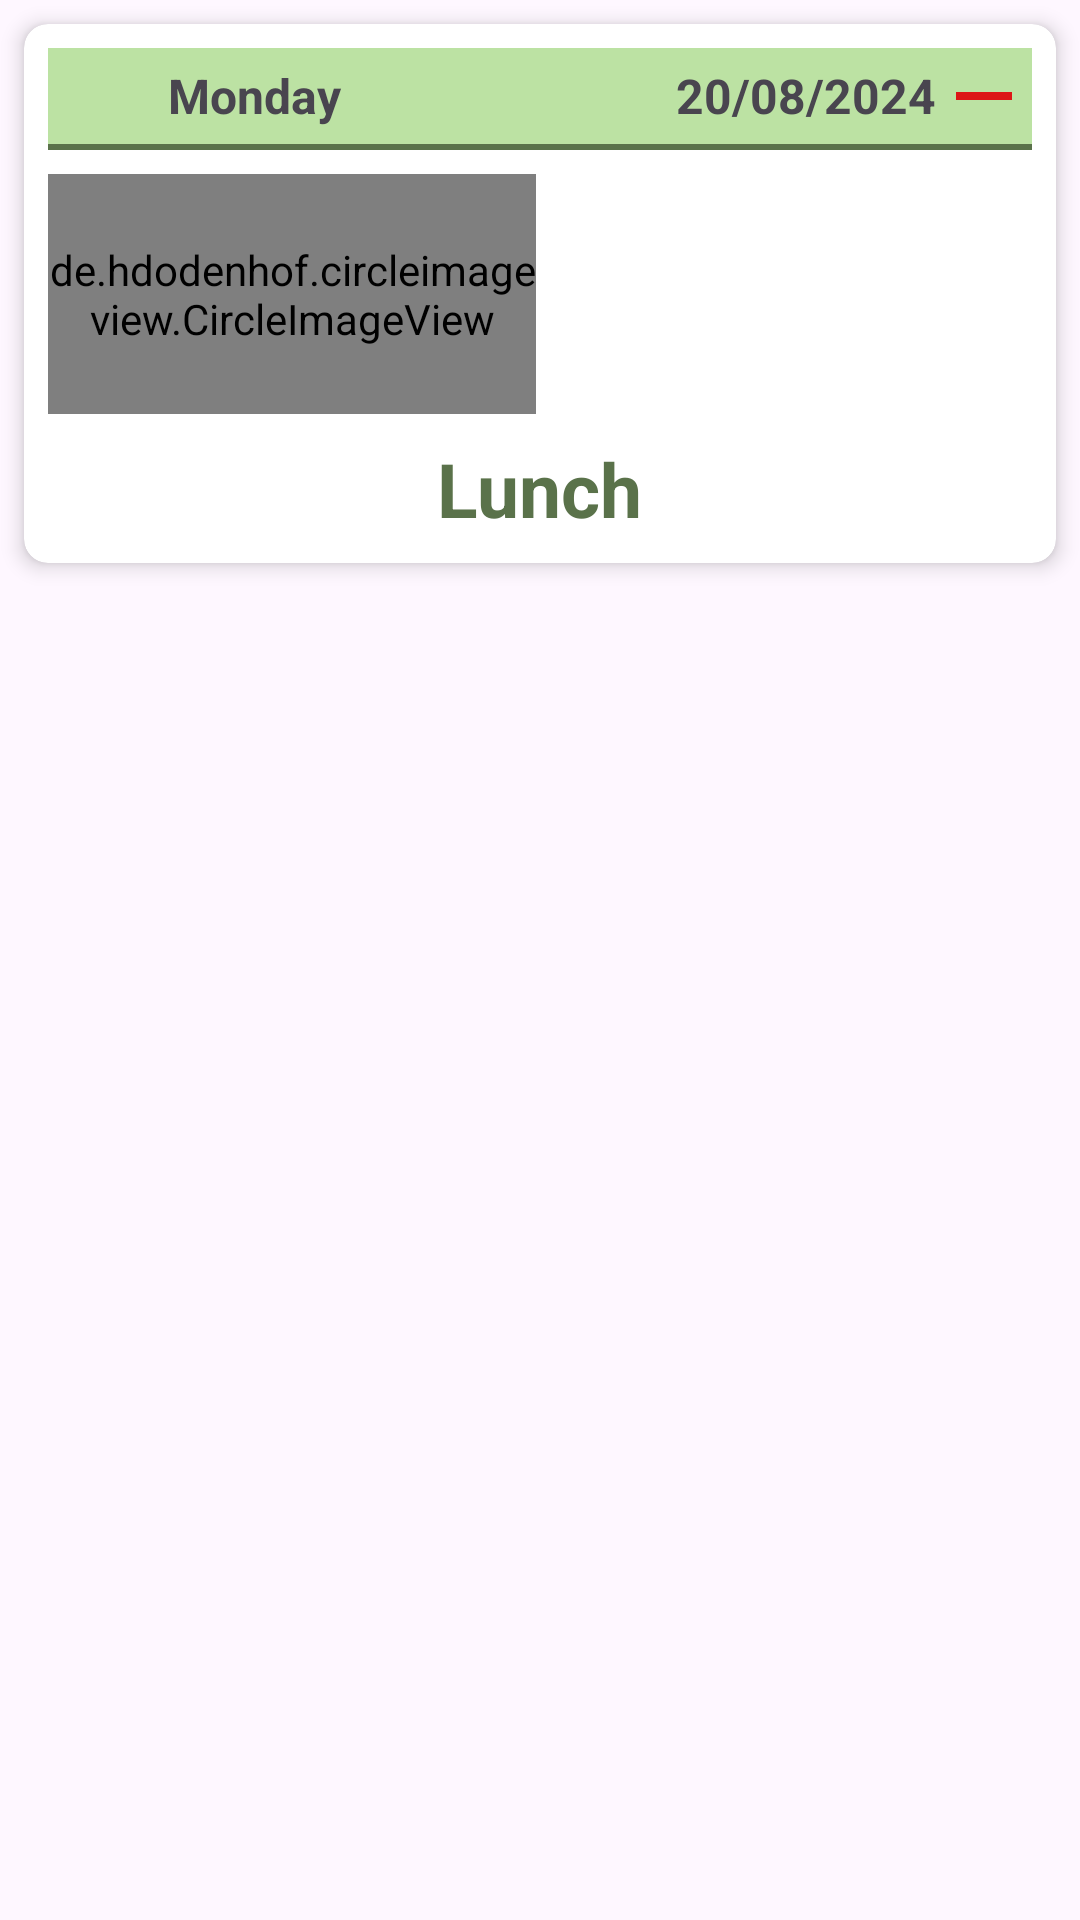

Where to tap for icons on this 1080×1920 app screen, as (x,y):
remove: (984,96)
